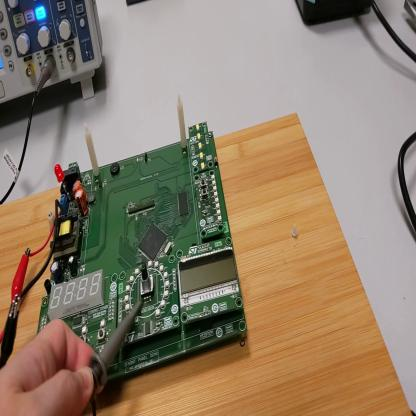hand: (2, 324, 100, 415)
low voltage board: (23, 96, 249, 384)
oscilloscope: (1, 2, 104, 109)
oscilloscope probe tip: (91, 304, 145, 406)
pliers: (406, 3, 415, 22)
welder station: (297, 2, 371, 28)
working area: (2, 115, 413, 415)
